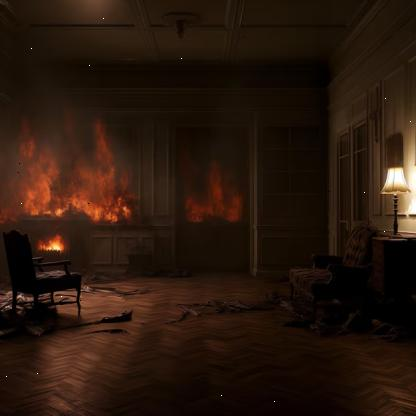fire: (0, 110, 137, 221), (179, 152, 251, 229), (35, 236, 69, 253)
